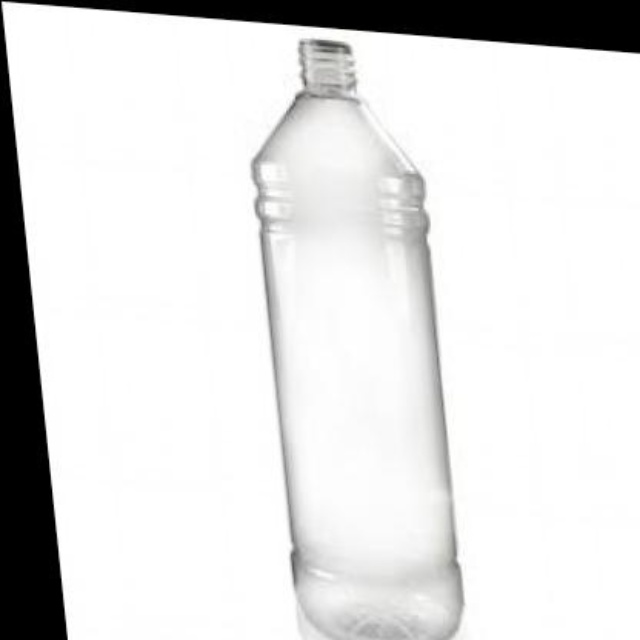trash: (252, 40, 462, 638)
